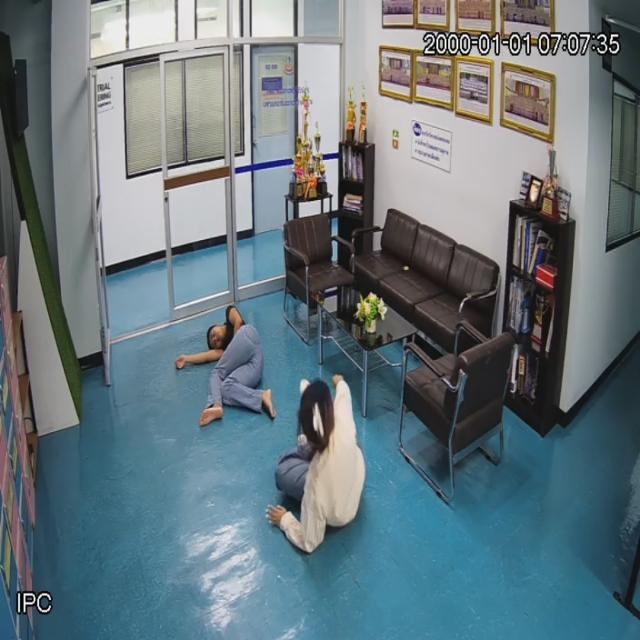fall: (268, 364, 364, 550), (195, 297, 278, 437)
